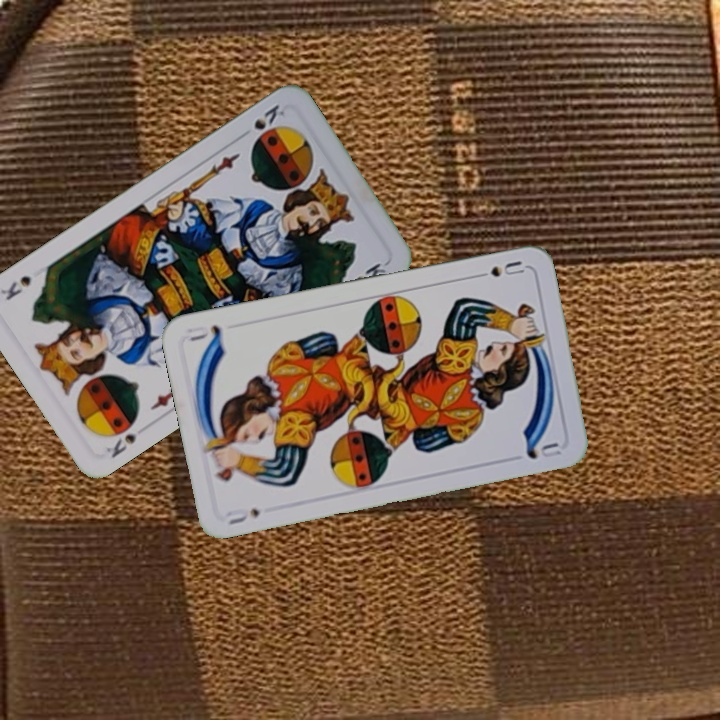SK: (249, 100, 289, 144), (102, 430, 140, 461)
SU: (469, 256, 527, 281), (222, 504, 263, 527)
